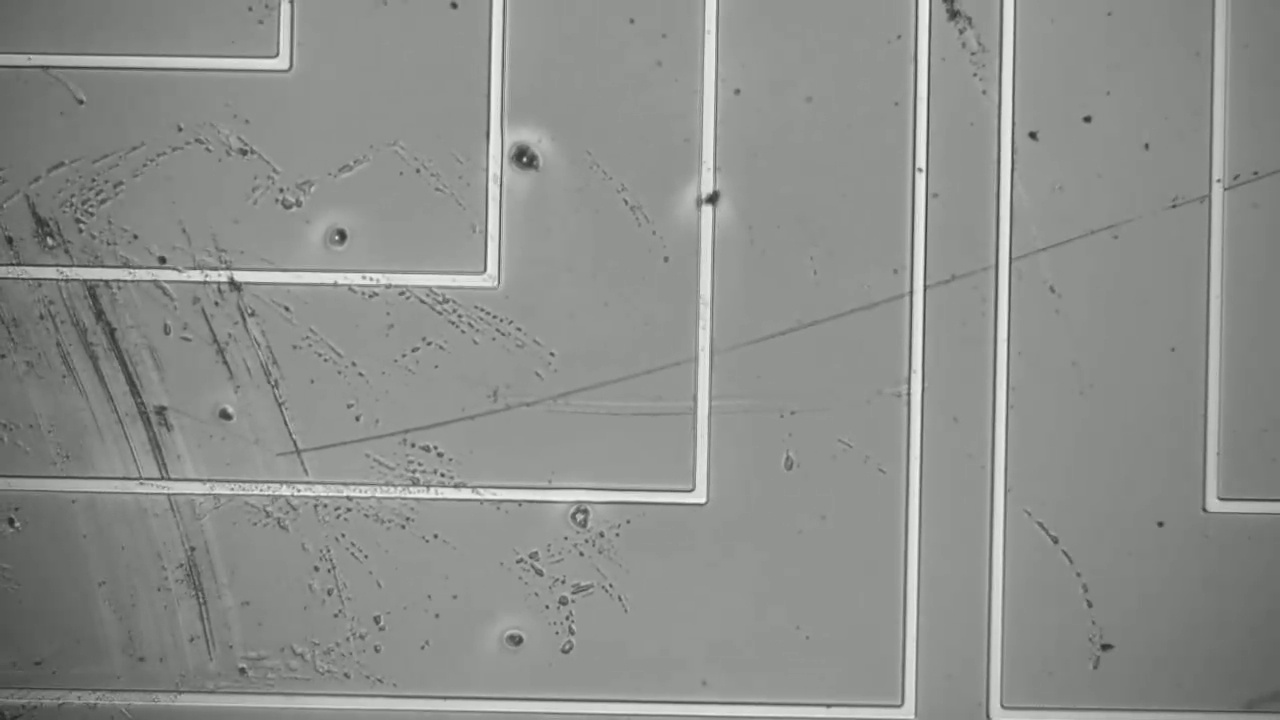scratch: (284, 169, 1265, 452), (29, 208, 216, 668), (217, 282, 341, 622), (223, 259, 304, 480), (1032, 510, 1108, 666)
stains_enbedded: (676, 162, 732, 214)
